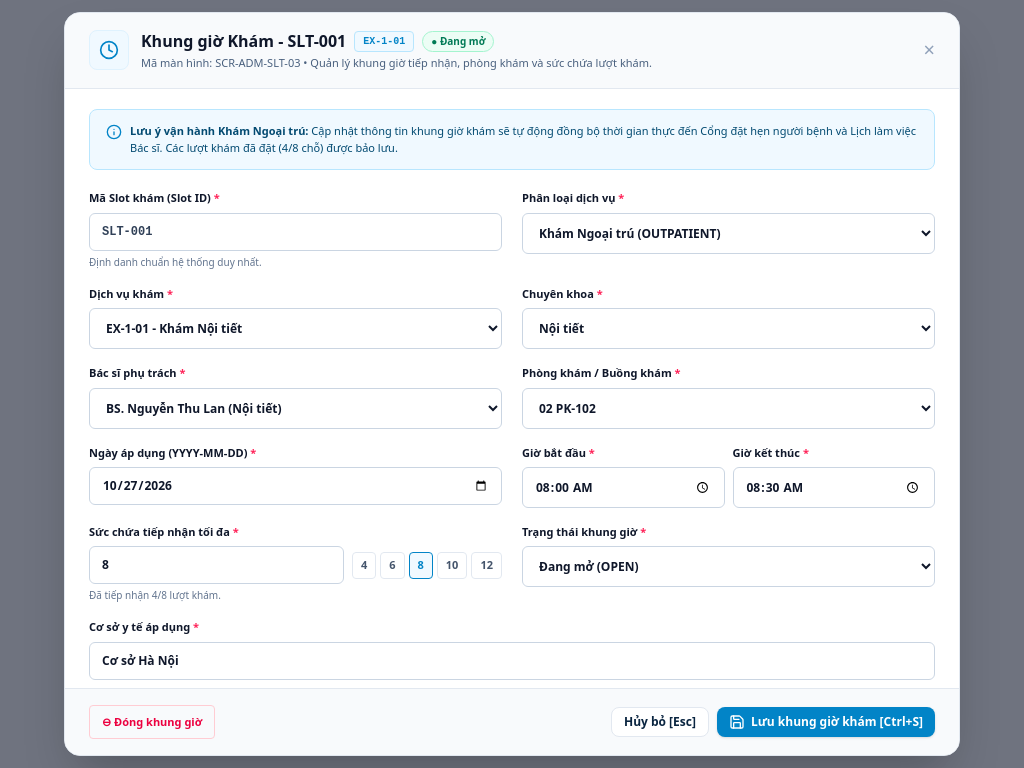
Test: SlotEditModal (SCR-ADM-SLT-03) › allows selecting quick capacity presets
This screenshot has width=1024, height=768.
Step 1. Click the button "10" → (452, 565), box [437,552,467,579]
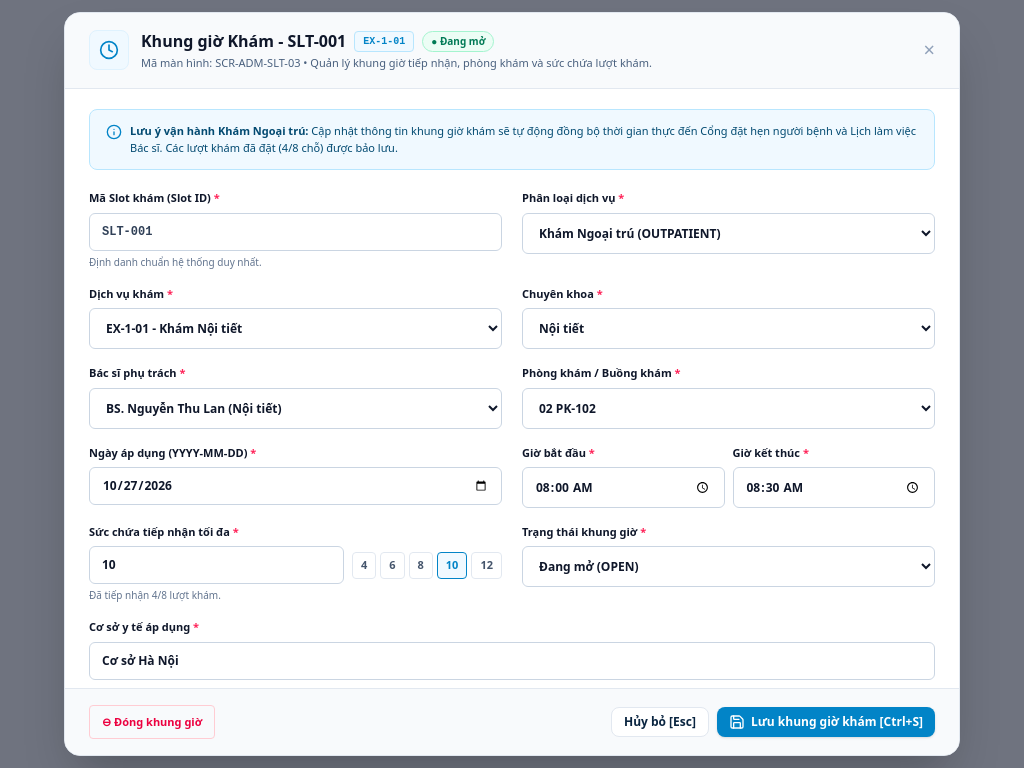
Check: the number field labelled "Sức chứa tiếp nhận tối đa" holds "10", box [89,546,344,584]
